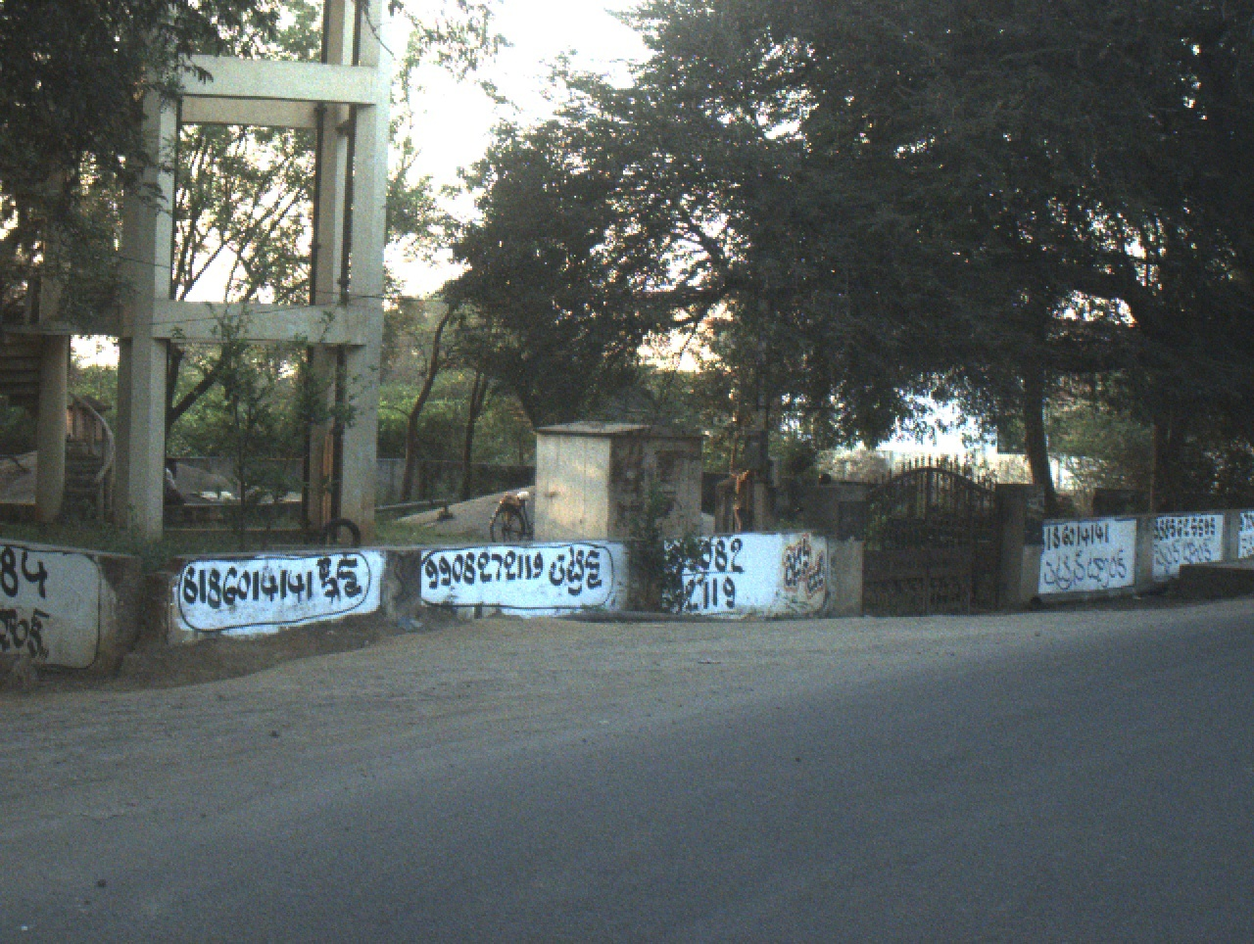bicycle: (487, 485, 539, 550)
